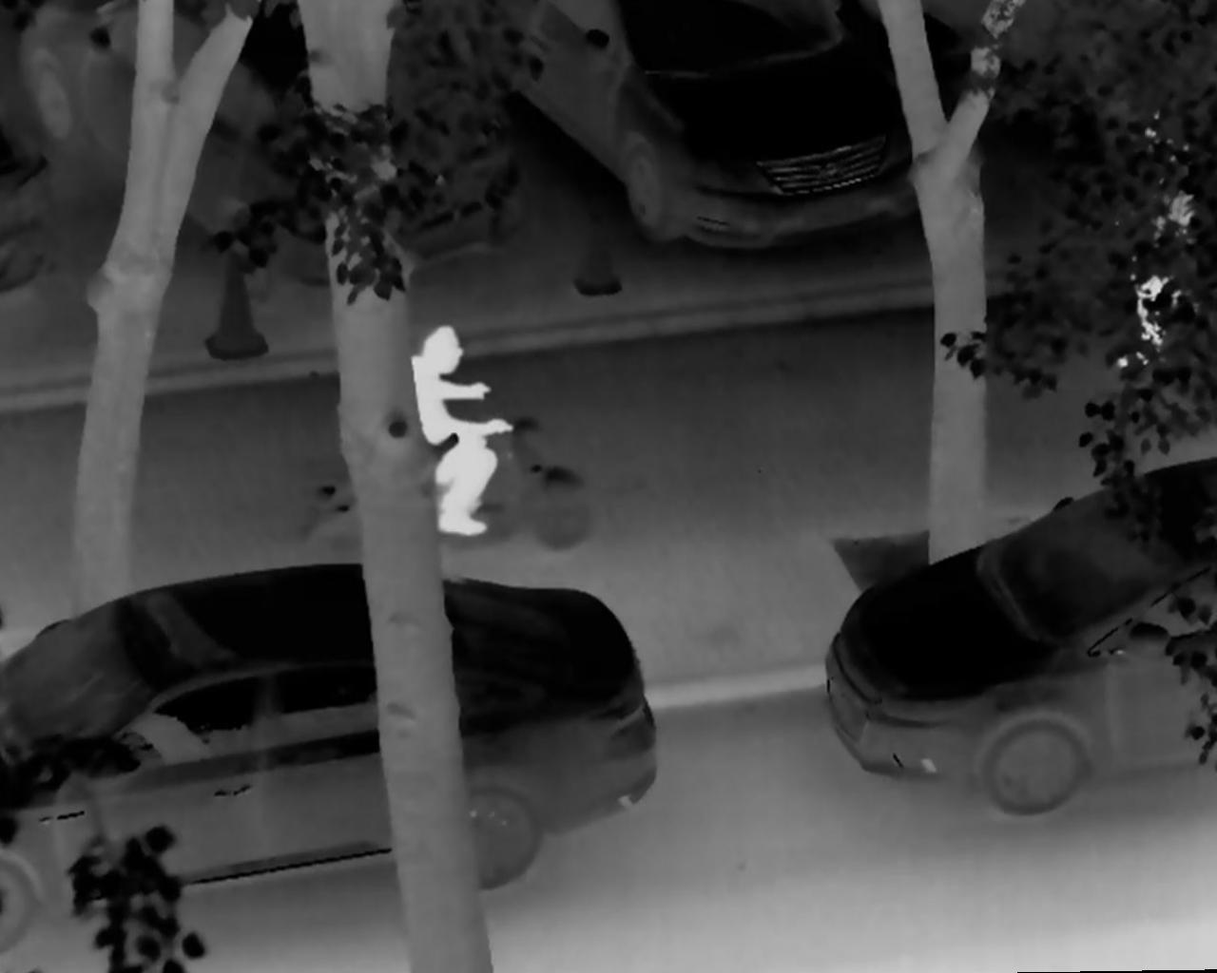person: (1111, 105, 1217, 390), (396, 322, 514, 538)
